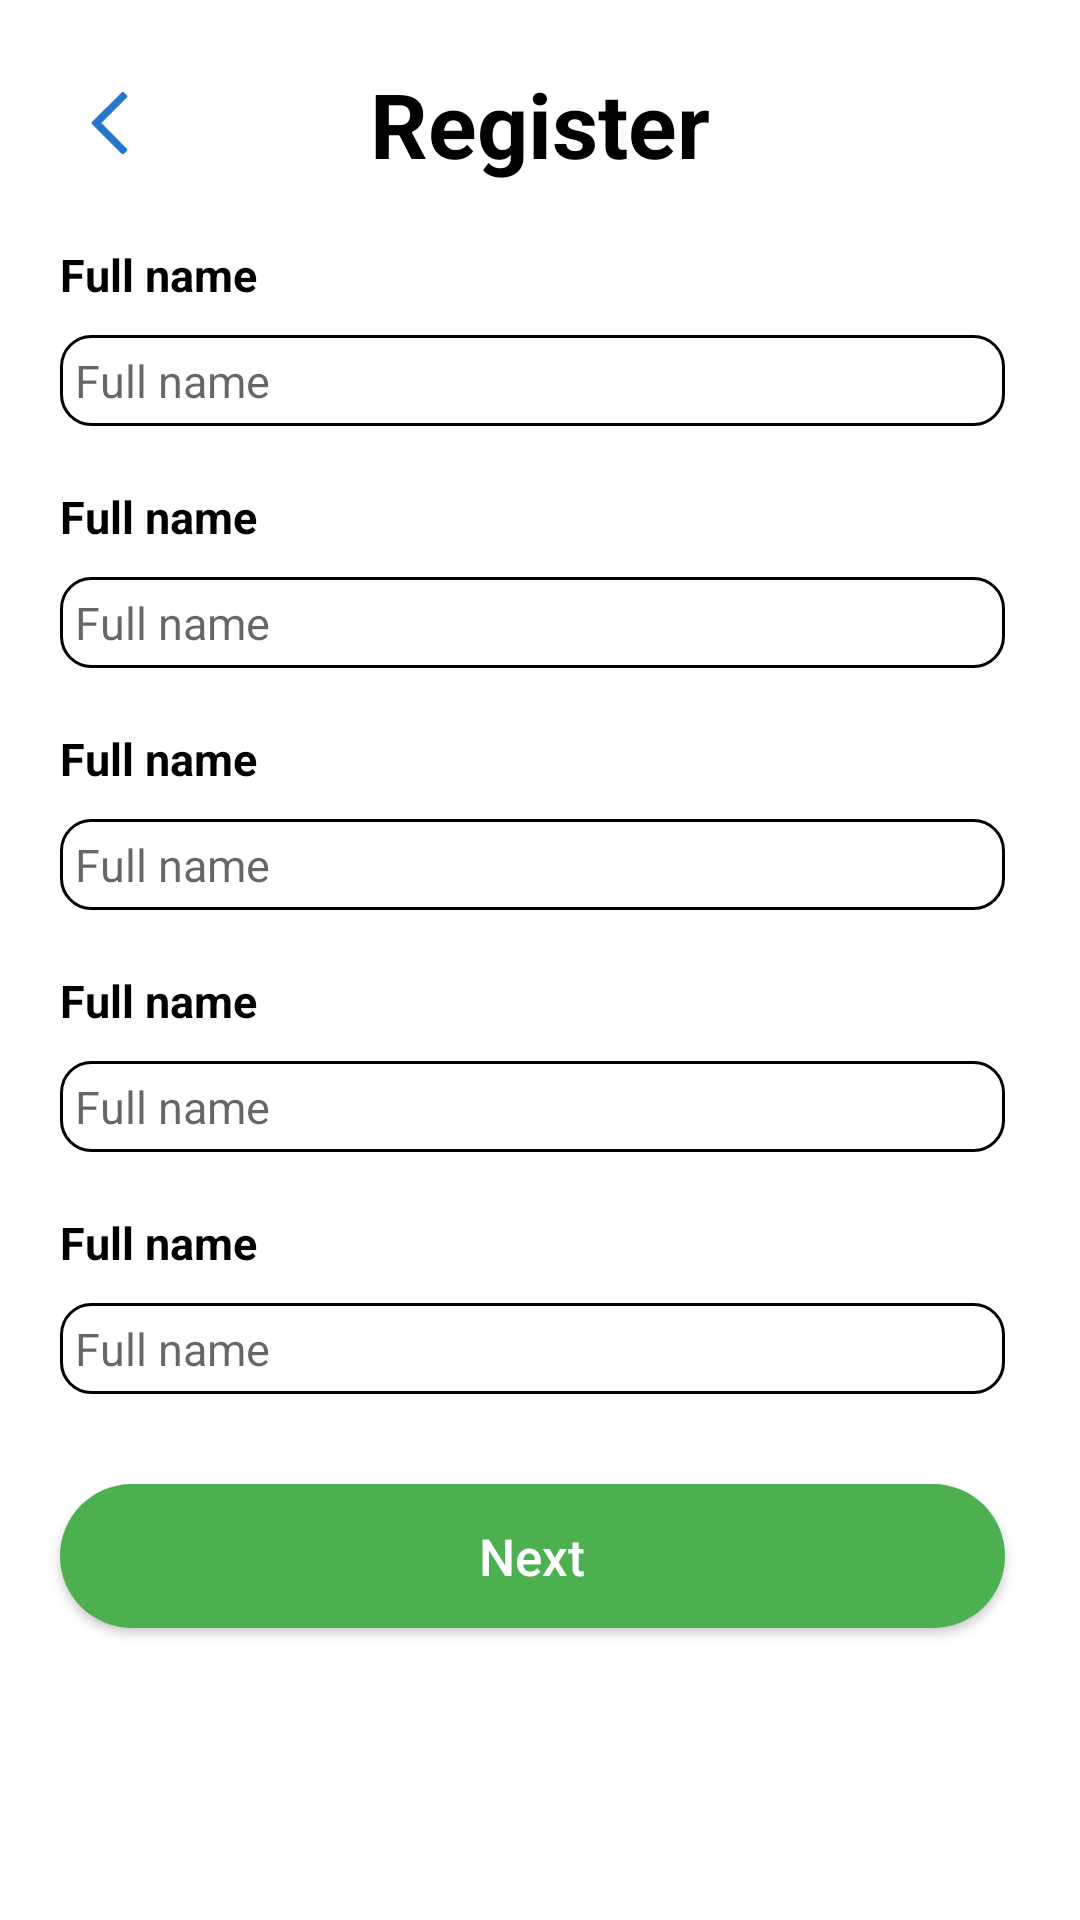

Screen size 1080w x 1920h. Icon name, then its center in pixels as point (x, y):
back: point (109, 123)
